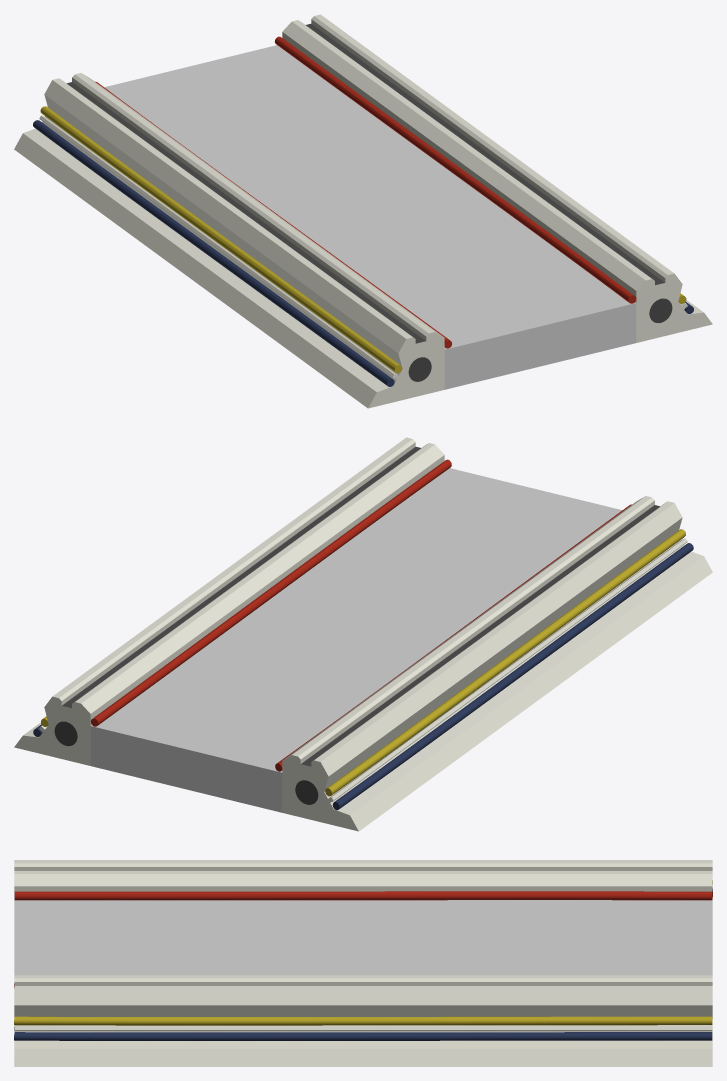
Rendered from Rampa.fbx.
3 renders of one model, top to bottom at view 1: azimuth 30°, elevation 25°; view 2: azimuth 150°, elevation 25°; view 3: azimuth 270°, elevation 25°, orthographic.
Parts seen in each view (by area): view 1: Cube.003, Cube.001; view 2: Cube.003, Cube.001; view 3: Cube.003, Cube.001.
Boxes of the visible parts, bbox=[...] form: Cube.003: bbox=[14, 14, 712, 408]; Cube.001: bbox=[104, 45, 636, 389]; Cube.003: bbox=[14, 437, 712, 831]; Cube.001: bbox=[90, 468, 622, 812]; Cube.003: bbox=[14, 860, 712, 1066]; Cube.001: bbox=[14, 898, 712, 975].
Bounding box in the file's own units: 450 × 75 × 801.
